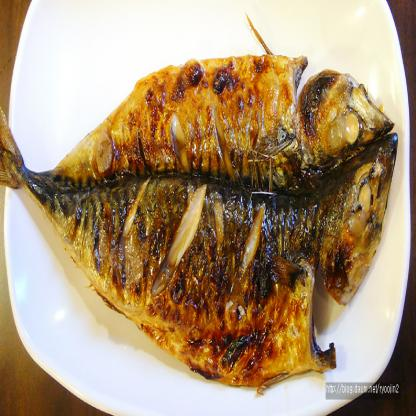Peixe: (0, 46, 406, 403)
